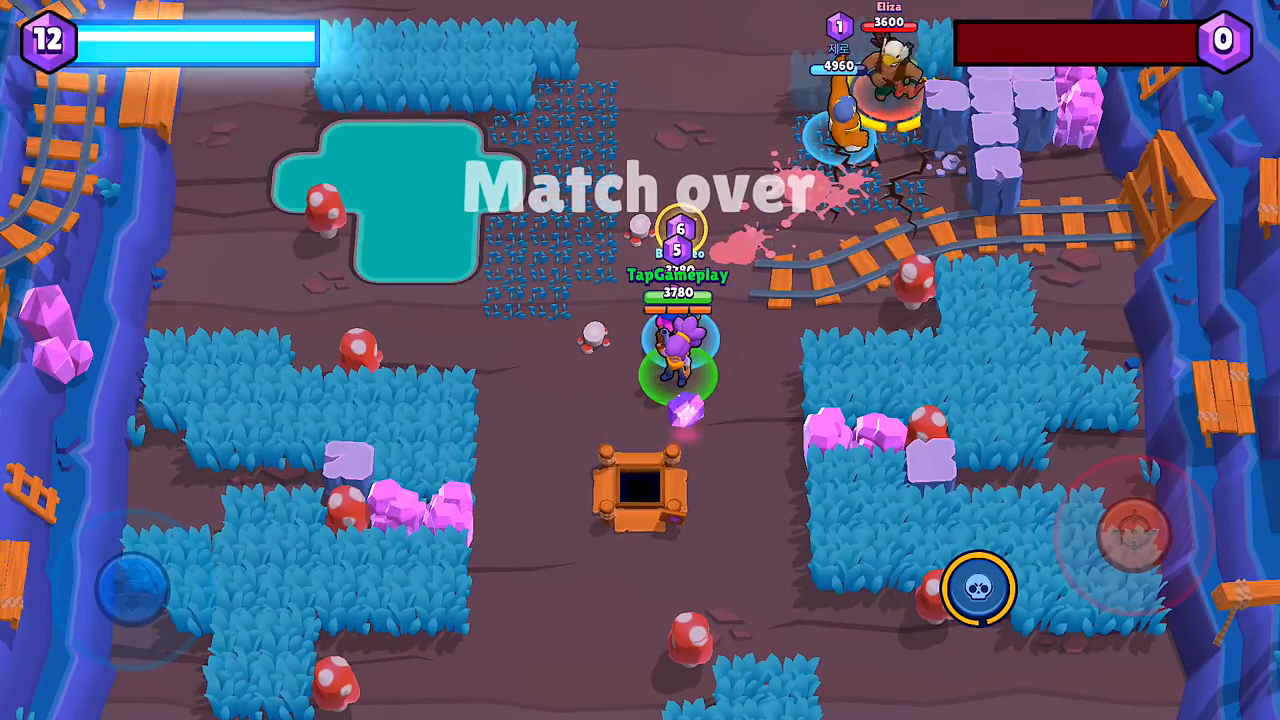move_stick: (95, 549, 179, 630)
red: (847, 1, 937, 147)
